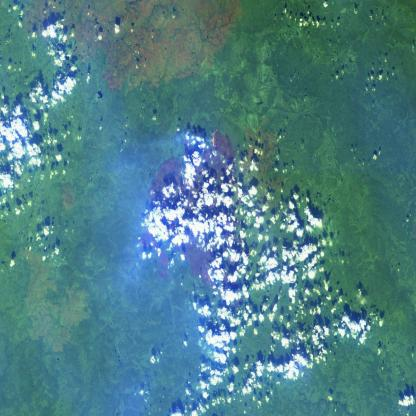fire: (191, 121, 228, 155)
